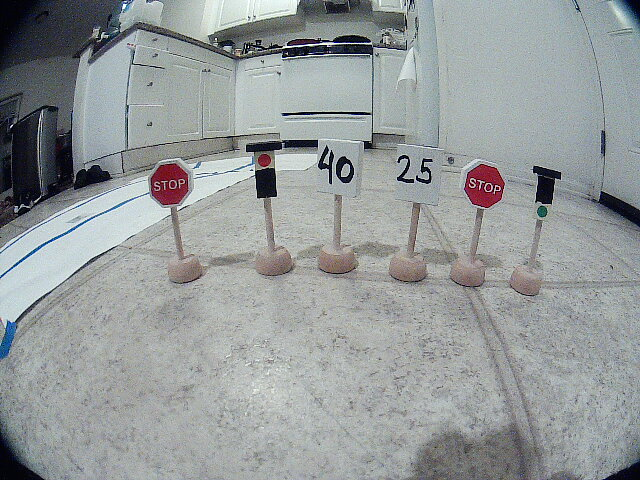Green Traffic Light: (527, 156, 583, 232)
Red Traffic Light: (232, 135, 307, 216)
Speed Limit 25: (390, 131, 453, 217)
Speed Limit 40: (312, 134, 381, 212)
Stop Sign: (133, 156, 213, 218), (454, 150, 519, 225)
